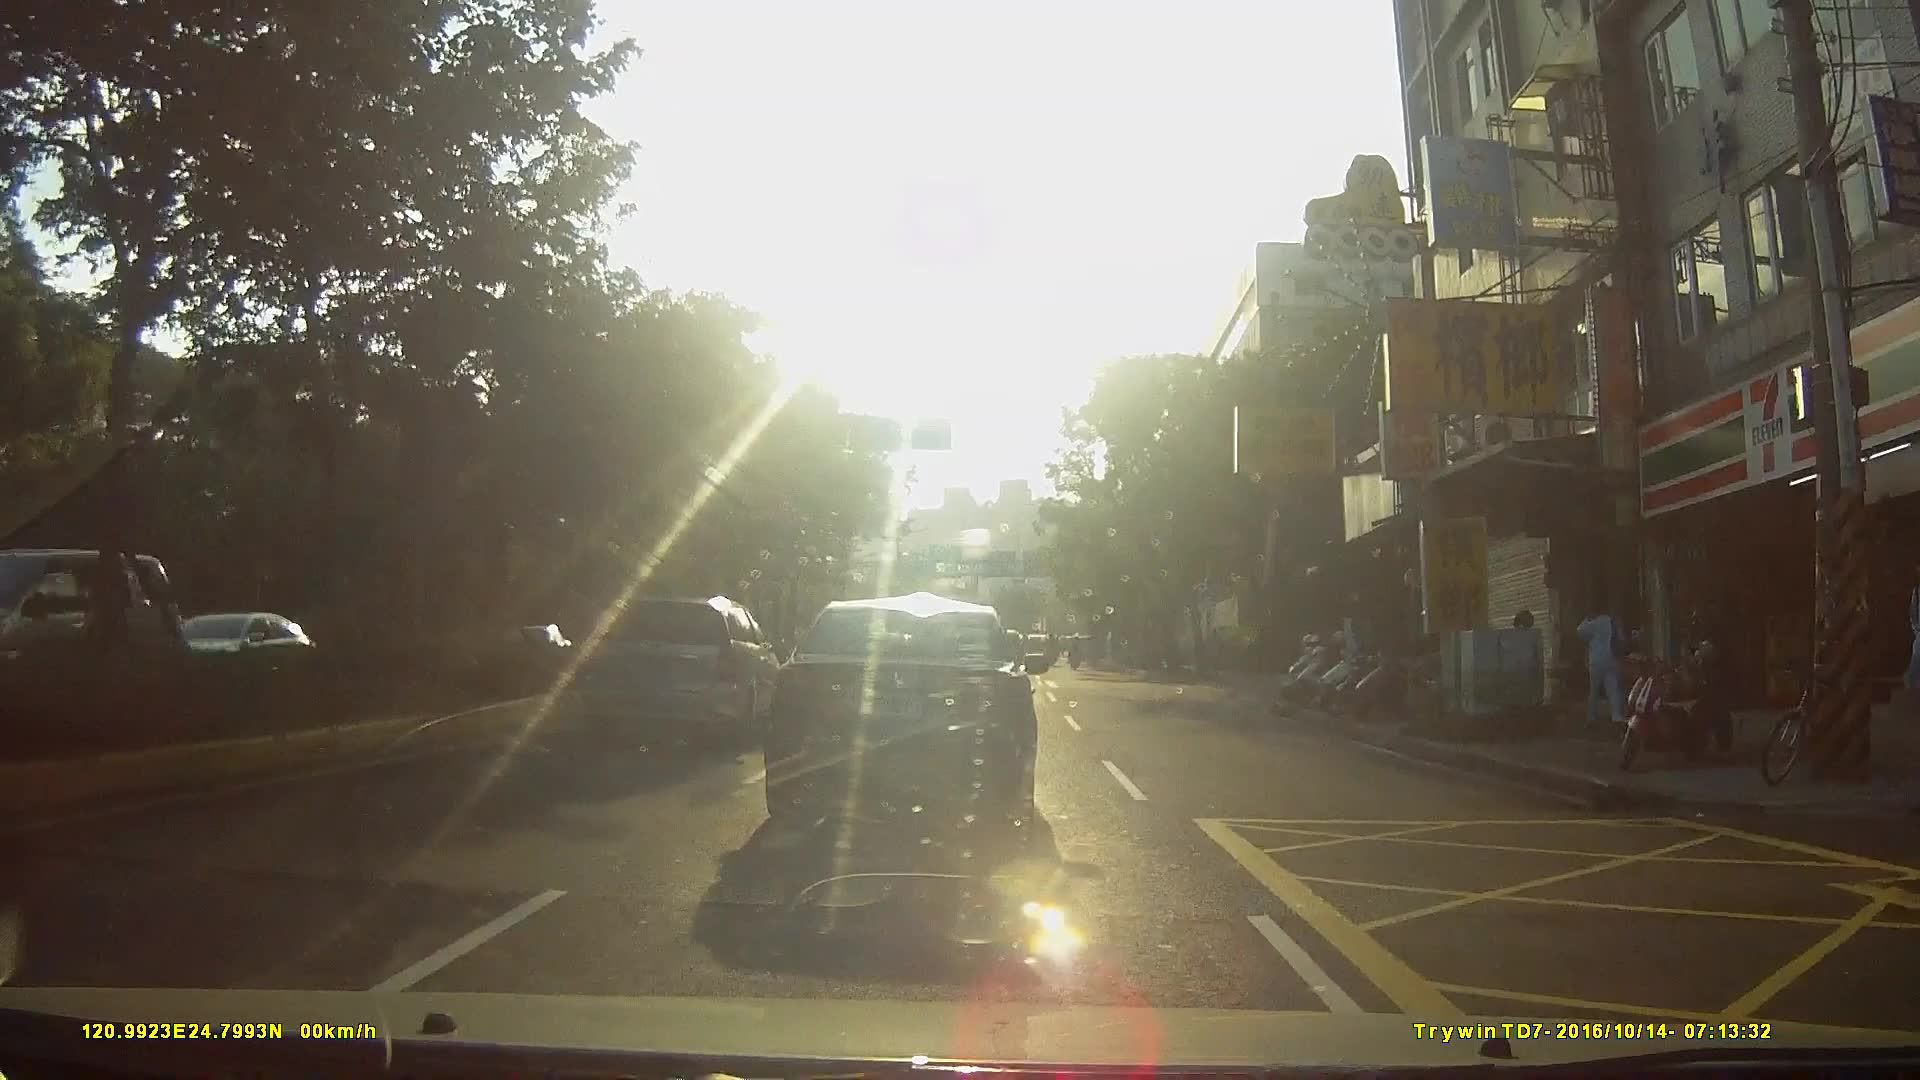pedestrian: (1572, 596, 1632, 724), (1685, 617, 1736, 766)
vehicle: (763, 599, 1052, 840), (1, 554, 195, 718), (591, 593, 789, 738), (155, 613, 323, 703)
